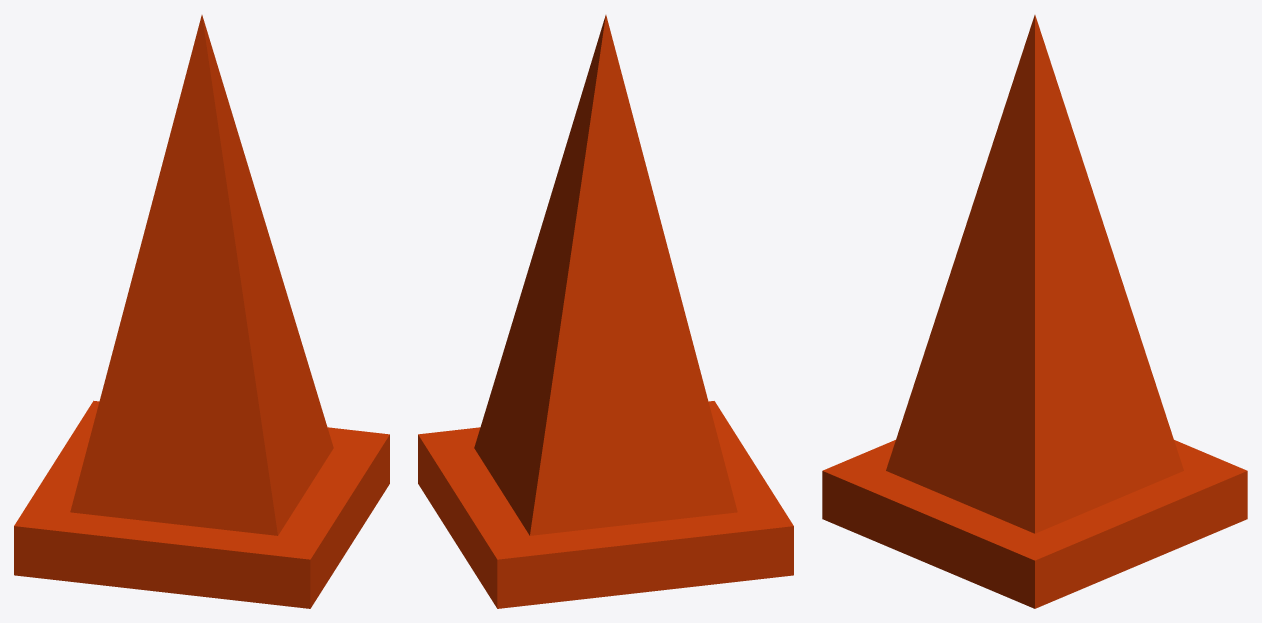
File: Prop_Safety_Cone_A.fbx
3 renders of one model, left to right at view 1: azimuth 30°, elevation 25°; view 2: azimuth 150°, elevation 25°; view 3: azimuth 270°, elevation 25°, orthographic. The views are drawn at different scales.
Parts seen in each view (by area): view 1: Prop_Safety_Cone_A; view 2: Prop_Safety_Cone_A; view 3: Prop_Safety_Cone_A.
Part boxes in pixels (box(x1,y1,x2,y2)): Prop_Safety_Cone_A: box(14, 15, 389, 608); Prop_Safety_Cone_A: box(418, 15, 793, 608); Prop_Safety_Cone_A: box(822, 15, 1247, 608).
Size of the model in its own units: 76.31 by 100 by 76.31.
